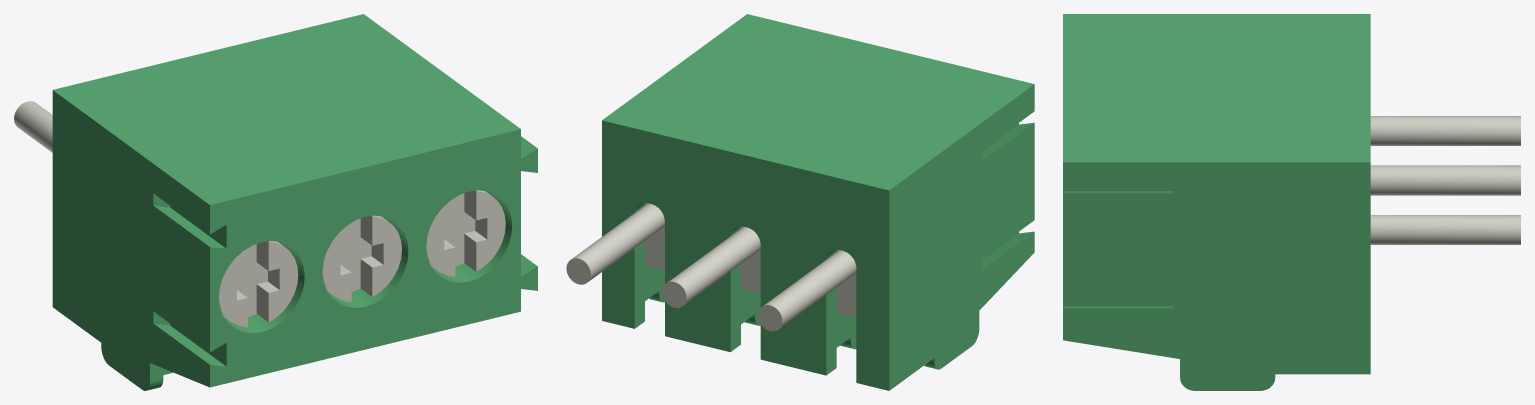
File: terminal-3-p3.5.glb
3 views of the same model, side by side, from view 1: azimuth 30°, elevation 25°; view 2: azimuth 150°, elevation 25°; view 3: azimuth 270°, elevation 25° (orthographic). The views are drawn at different scales.
Visible parts, largest first — view 1: PLASTIC-GREEN-01, PIN-01 (×5); view 2: PLASTIC-GREEN-01, PIN-01 (×6); view 3: PLASTIC-GREEN-01, PIN-01 (×3).
Part boxes in pixels (x1,y1,x2,y2): PLASTIC-GREEN-01: (52,14,537,390); PIN-01 (×5): (14,101,505,327); PLASTIC-GREEN-01: (602,14,1034,390); PIN-01 (×6): (566,203,856,331); PLASTIC-GREEN-01: (1063,14,1370,390); PIN-01 (×3): (1370,116,1520,244).
Size of the model in its own units: 11.07 by 7.55 by 13.7.
